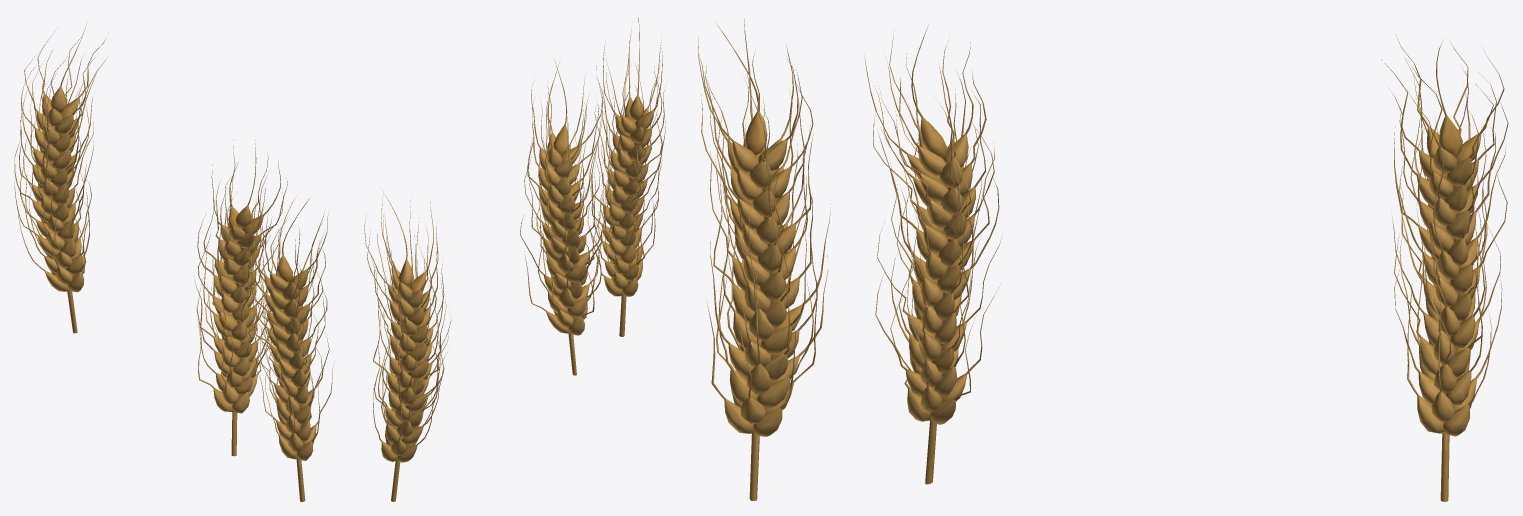
File: xm-wheat.glb
The picture shows the model from 3 angles, left to right: view 1: azimuth 30°, elevation 25°; view 2: azimuth 150°, elevation 25°; view 3: azimuth 270°, elevation 25°; orthographic projection. The views are drawn at different scales.
Visible parts, largest first — view 1: xm-wheat-0, xm-wheat-2, xm-wheat-1; view 2: xm-wheat-2, xm-wheat-0, xm-wheat-1; view 3: xm-wheat-1, xm-wheat-0, xm-wheat-2.
Part boxes in pixels (<box>): xm-wheat-0: <box>14,23,108,333</box>; xm-wheat-2: <box>194,139,287,456</box>; xm-wheat-1: <box>245,195,333,501</box>; xm-wheat-2: <box>520,60,606,375</box>; xm-wheat-0: <box>364,190,451,501</box>; xm-wheat-1: <box>587,17,665,336</box>; xm-wheat-1: <box>698,19,831,500</box>; xm-wheat-0: <box>1381,35,1508,501</box>; xm-wheat-2: <box>864,25,1001,484</box>.
Size of the model in its own units: 0.1801 by 0.6608 by 1.
1 material, 1 textured.
